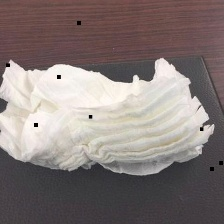tissue: (0, 51, 220, 180)
